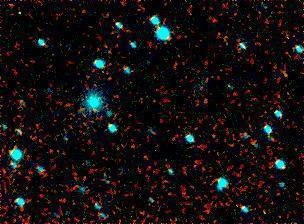star: (96, 64, 126, 94)
